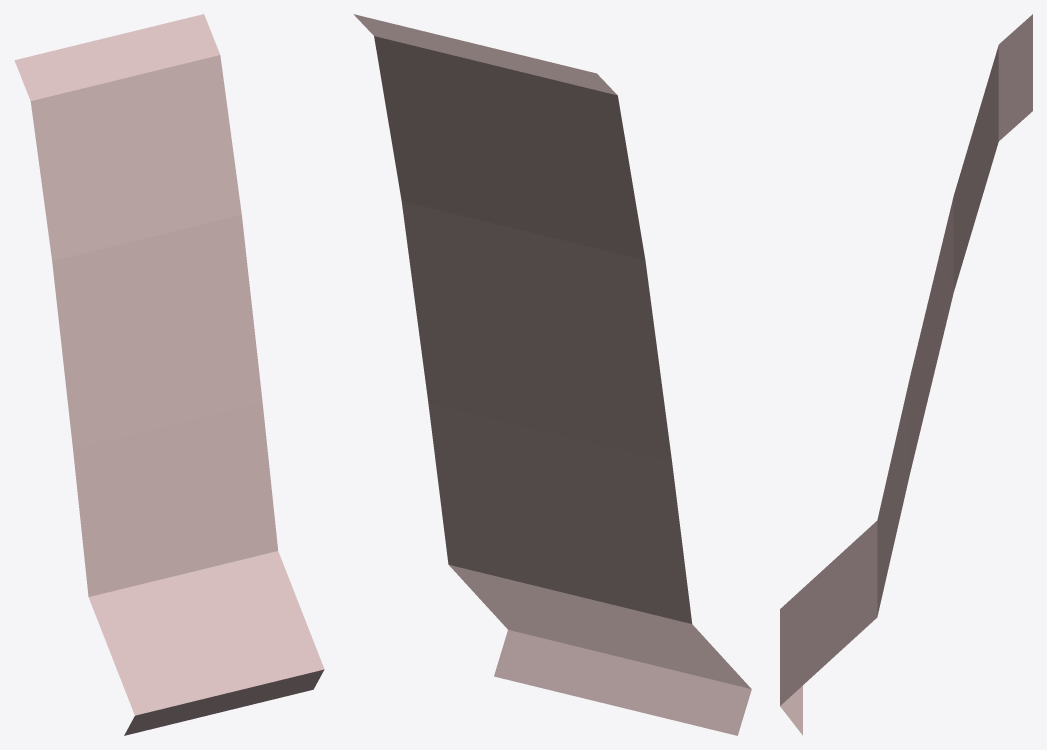
Rendered from castle_roof_side.fbx.
The picture shows the model from 3 angles, left to right: view 1: azimuth 30°, elevation 25°; view 2: azimuth 150°, elevation 25°; view 3: azimuth 270°, elevation 25°; orthographic projection. The views are drawn at different scales.
Parts seen in each view (by area): view 1: castle_roof_side_01; view 2: castle_roof_side_01; view 3: castle_roof_side_01.
Boxes of the visible parts, left/top/right/bottom form: castle_roof_side_01: left=14, top=14, right=324, bottom=735; castle_roof_side_01: left=353, top=14, right=751, bottom=735; castle_roof_side_01: left=780, top=14, right=1032, bottom=735.
Size of the model in its own units: 8 by 24 by 8.8.
